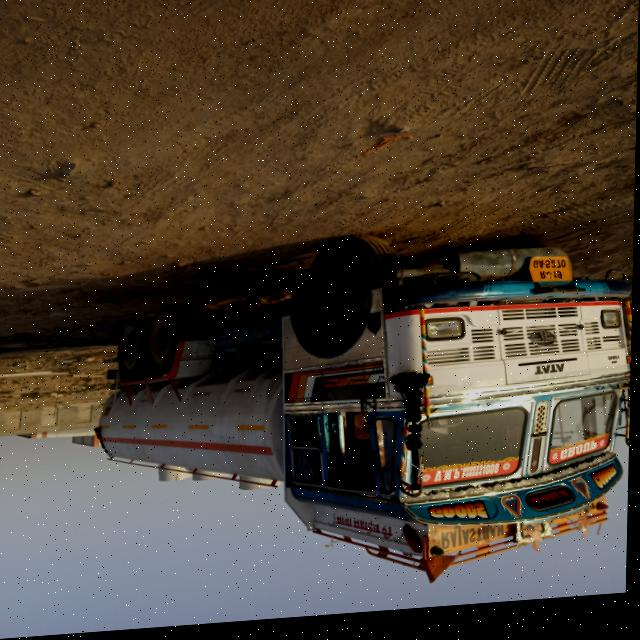plate: (531, 262, 576, 293)
